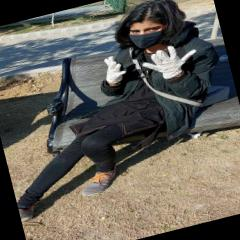gloved: (142, 41, 199, 83), (100, 54, 128, 86)
